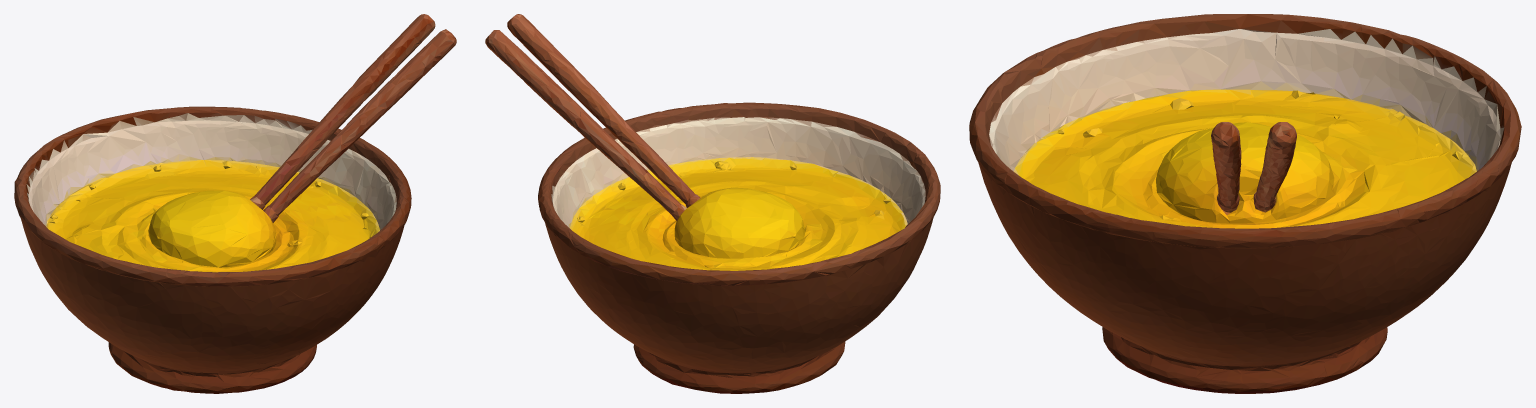
The model's file is egg_beaten.glb.
3 renders of one model, left to right at view 1: azimuth 30°, elevation 25°; view 2: azimuth 150°, elevation 25°; view 3: azimuth 270°, elevation 25°, orthographic. The views are drawn at different scales.
Parts seen in each view (by area): view 1: geometry_0; view 2: geometry_0; view 3: geometry_0.
Part boxes in pixels (x1,y1,x2,y2): geometry_0: (14,14,456,393); geometry_0: (485,14,940,393); geometry_0: (969,14,1521,393).
Size of the model in its own units: 0.15 by 0.0959 by 0.1319.
1 material, 1 textured.
